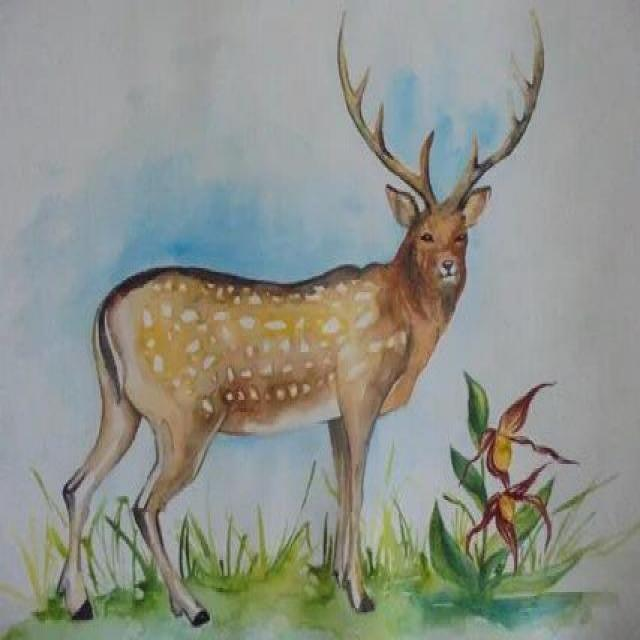deer: (40, 61, 640, 640)
